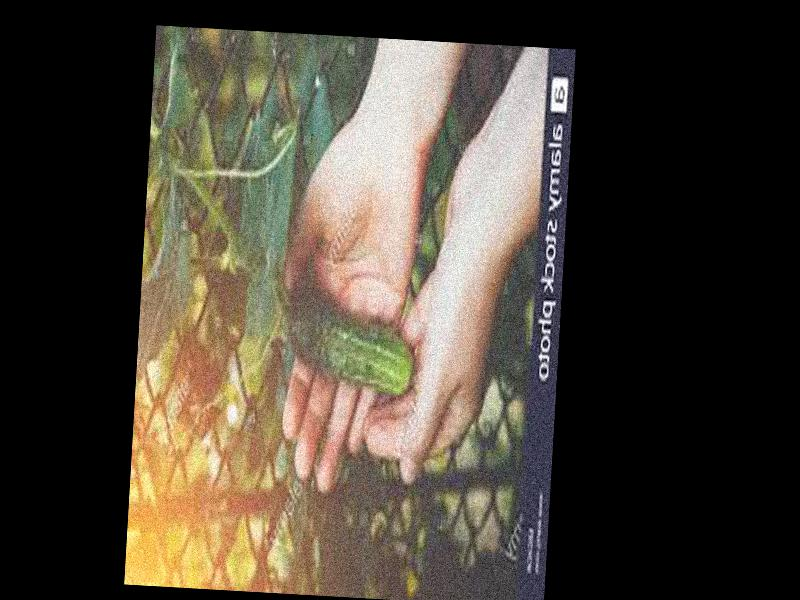Cucumber: (284, 290, 418, 398)
